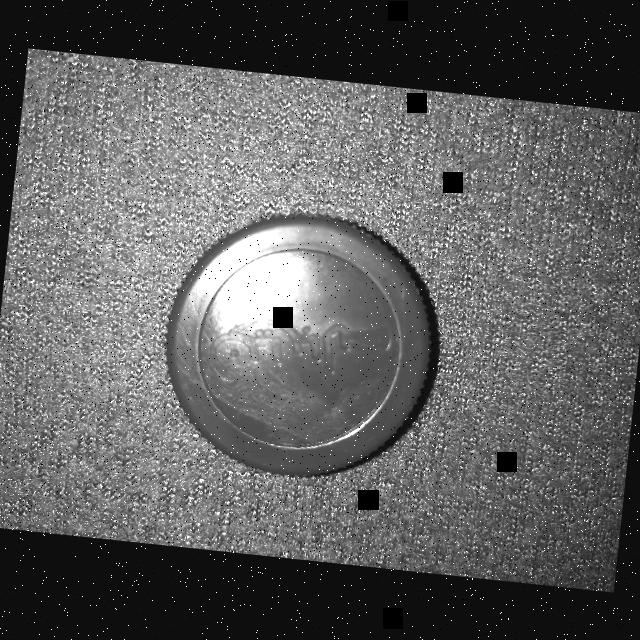plastic_bottle_cap: (147, 200, 446, 490)
